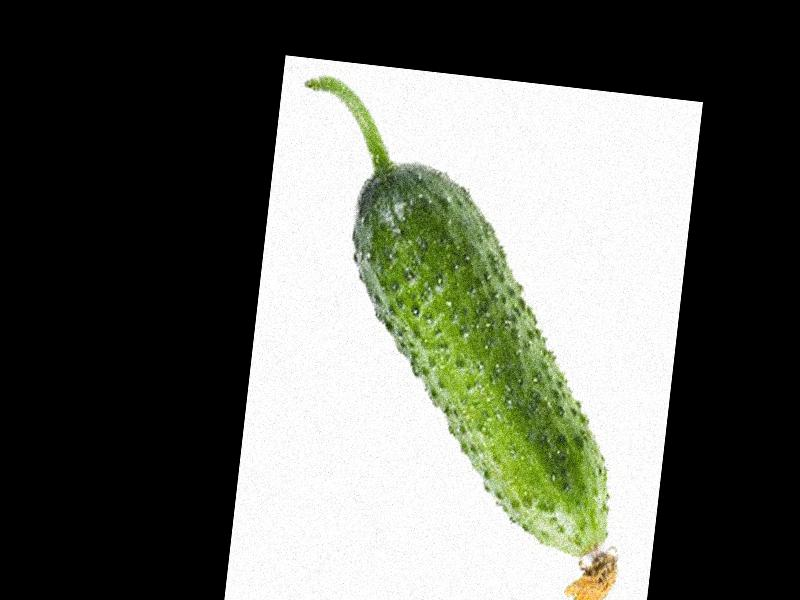Cucumber: (250, 75, 669, 600)
